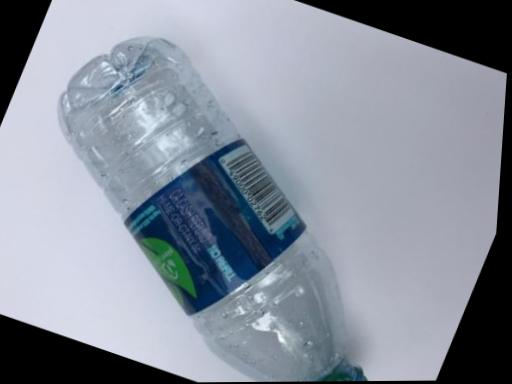plastic: (0, 8, 502, 384)
